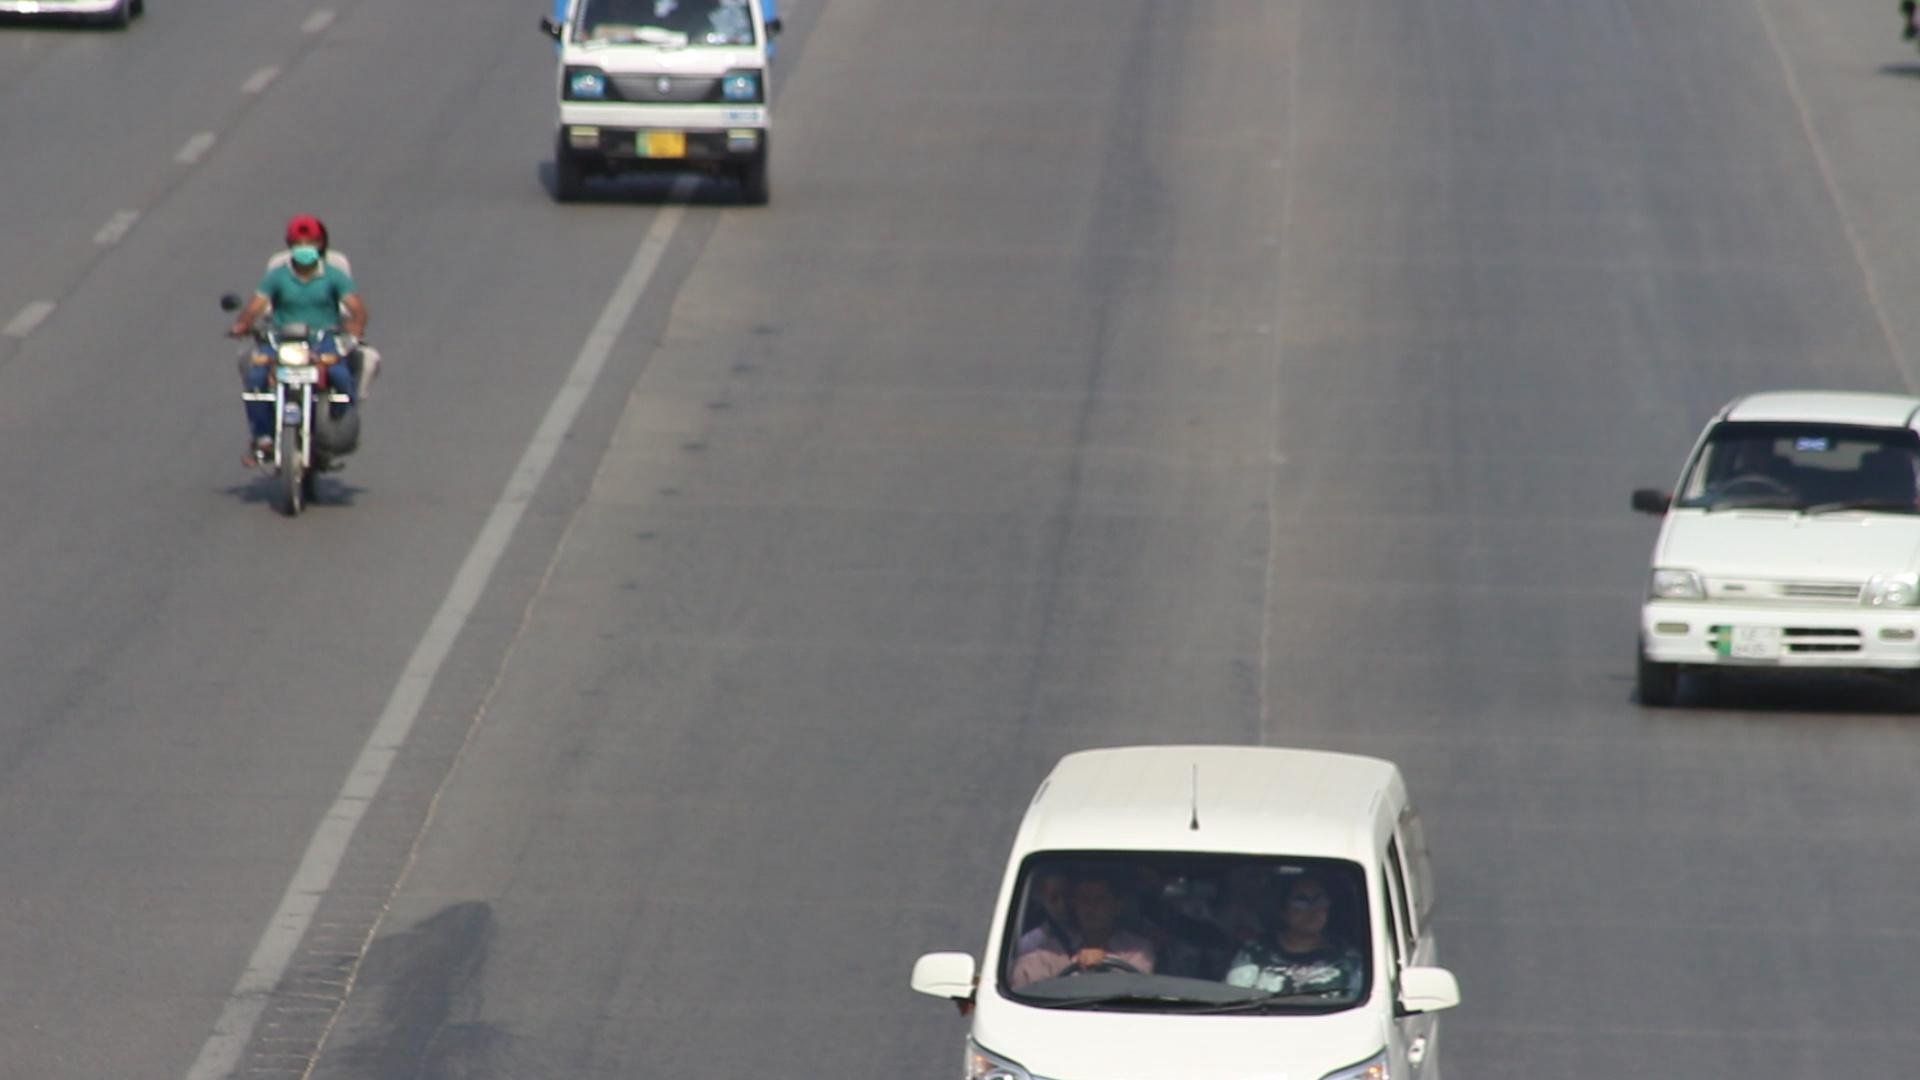windshield: (984, 827, 1374, 1017)
